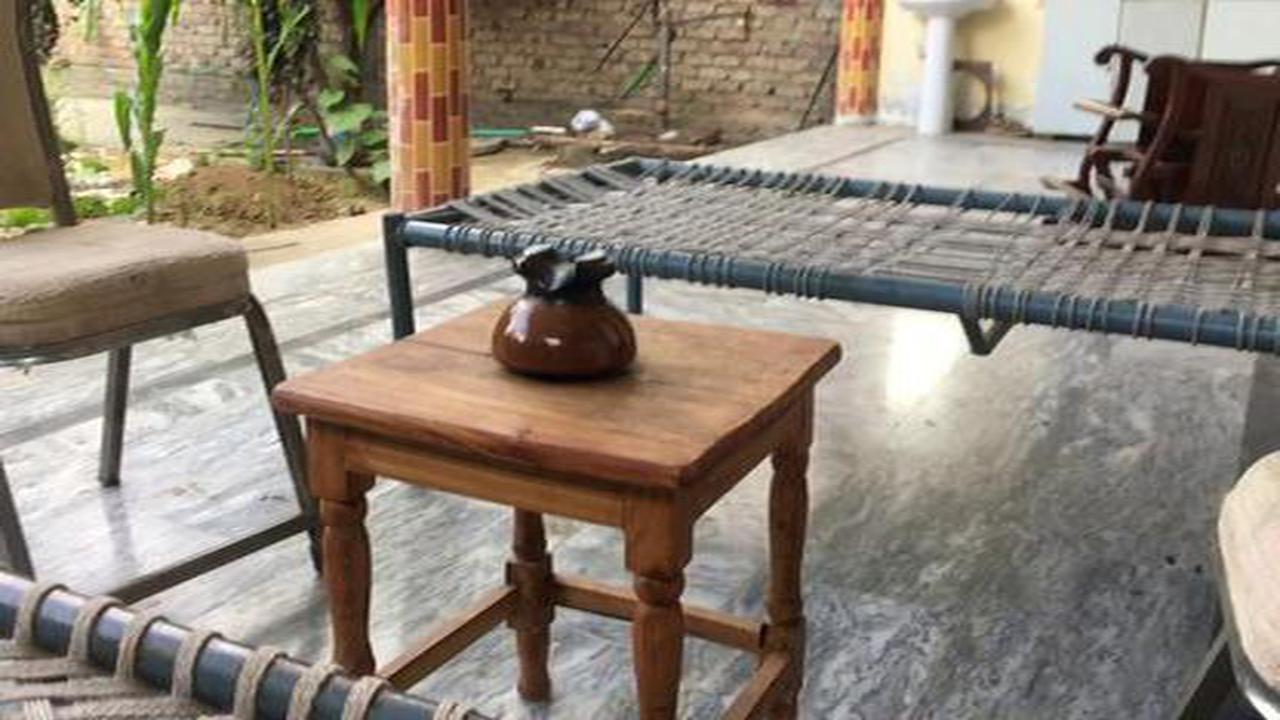insulator_pin: (487, 226, 656, 383)
